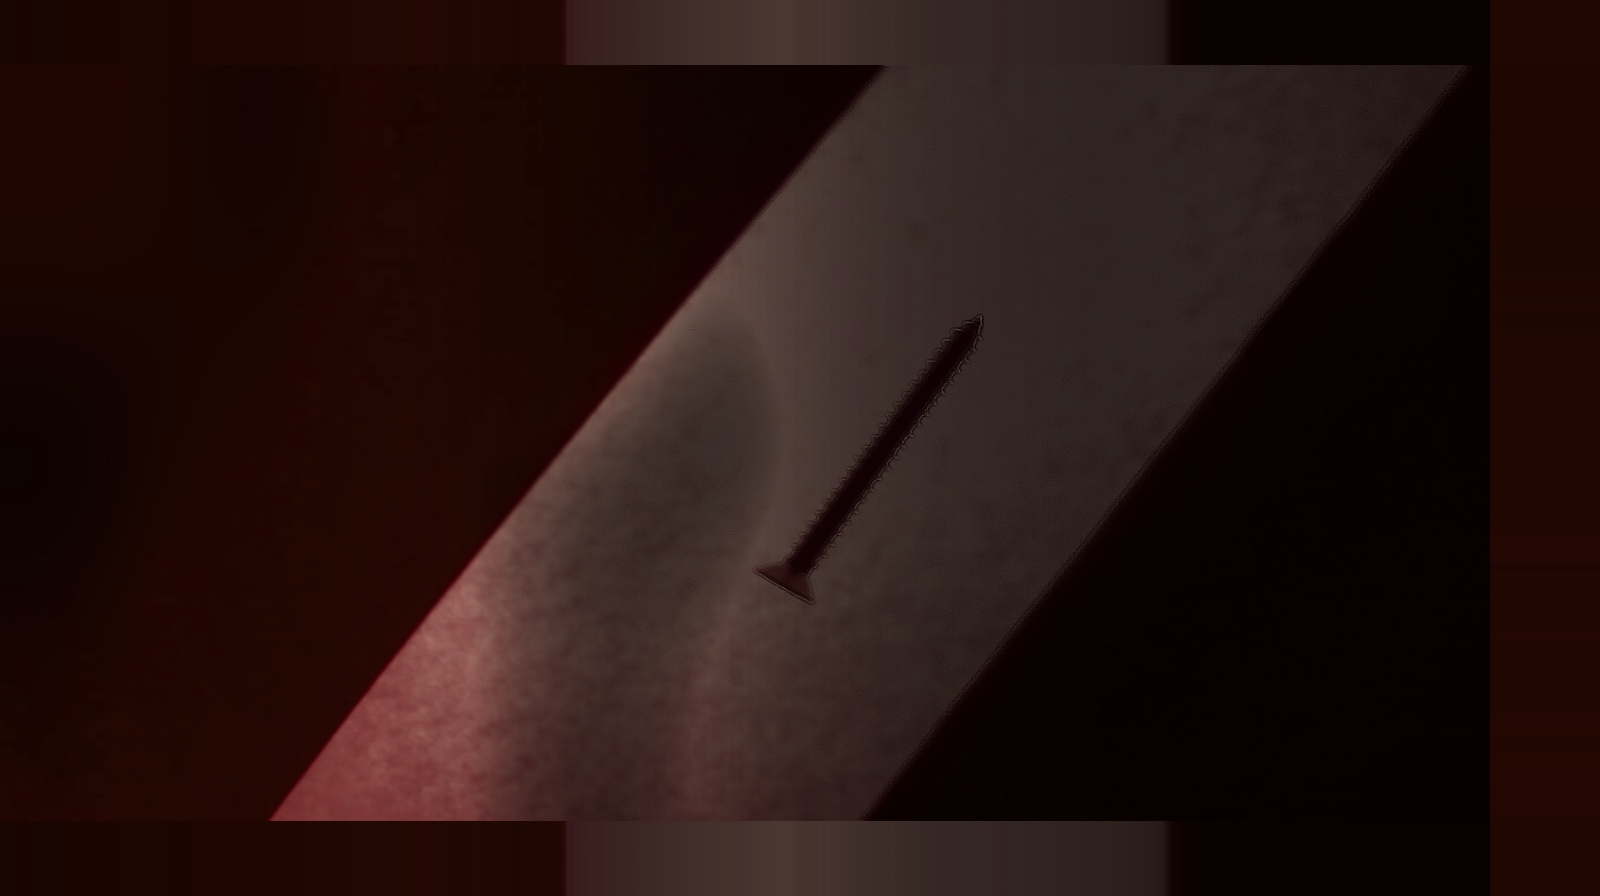S002: (721, 291, 1027, 623)
